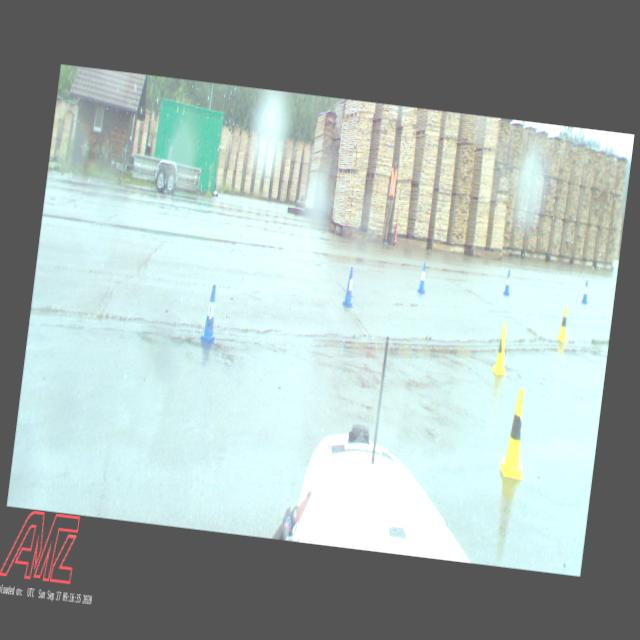blue_cone: (200, 284, 220, 344), (342, 266, 358, 308), (416, 260, 428, 294), (502, 270, 513, 296), (581, 280, 590, 304)
yellow_cone: (496, 387, 534, 479), (490, 322, 513, 376), (556, 305, 570, 342)
